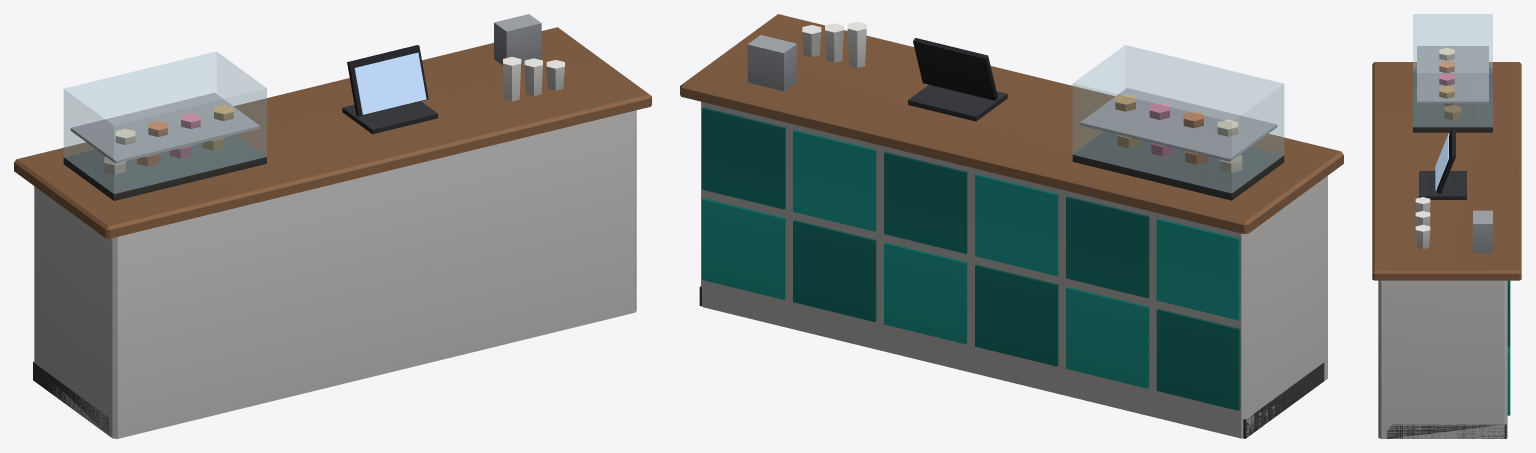
The model's file is counter_cafe_01.glb.
The picture shows the model from 3 angles, left to right: view 1: azimuth 30°, elevation 25°; view 2: azimuth 150°, elevation 25°; view 3: azimuth 270°, elevation 25°; orthographic projection. The views are drawn at different scales.
Parts seen in each view (by area): view 1: counter_cafe_01_mesh, counter_cafe_01_glass, counter_cafe_01_screen; view 2: counter_cafe_01_mesh, counter_cafe_01_glass; view 3: counter_cafe_01_mesh, counter_cafe_01_glass, counter_cafe_01_screen.
Part boxes in pixels (box(x1,y1,x2,y2)): counter_cafe_01_mesh: box(14, 14, 651, 438); counter_cafe_01_glass: box(64, 51, 266, 193); counter_cafe_01_screen: box(354, 52, 426, 114); counter_cafe_01_mesh: box(680, 14, 1343, 438); counter_cafe_01_glass: box(1073, 45, 1283, 193); counter_cafe_01_mesh: box(1372, 46, 1521, 438); counter_cafe_01_glass: box(1413, 14, 1492, 126); counter_cafe_01_screen: box(1435, 134, 1448, 190).
Bounding box in the file's own units: 2.5 × 1.28 × 0.75.
Materials: 3 (3 with a texture image).
